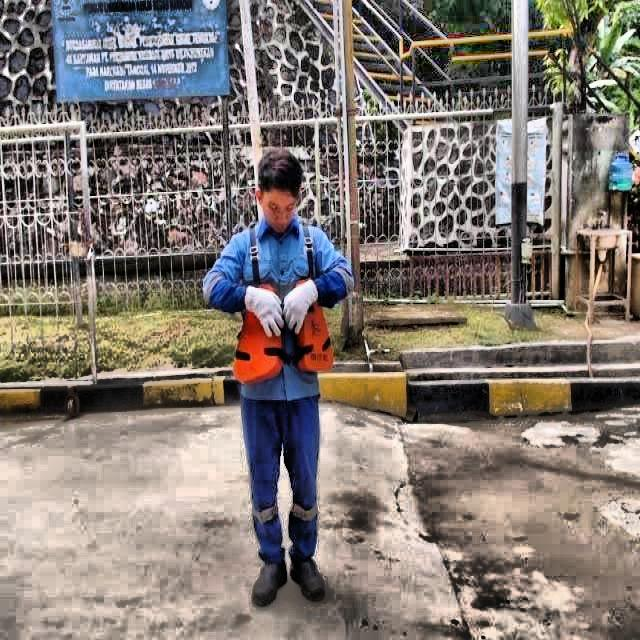safety_jacket: (217, 223, 342, 389)
